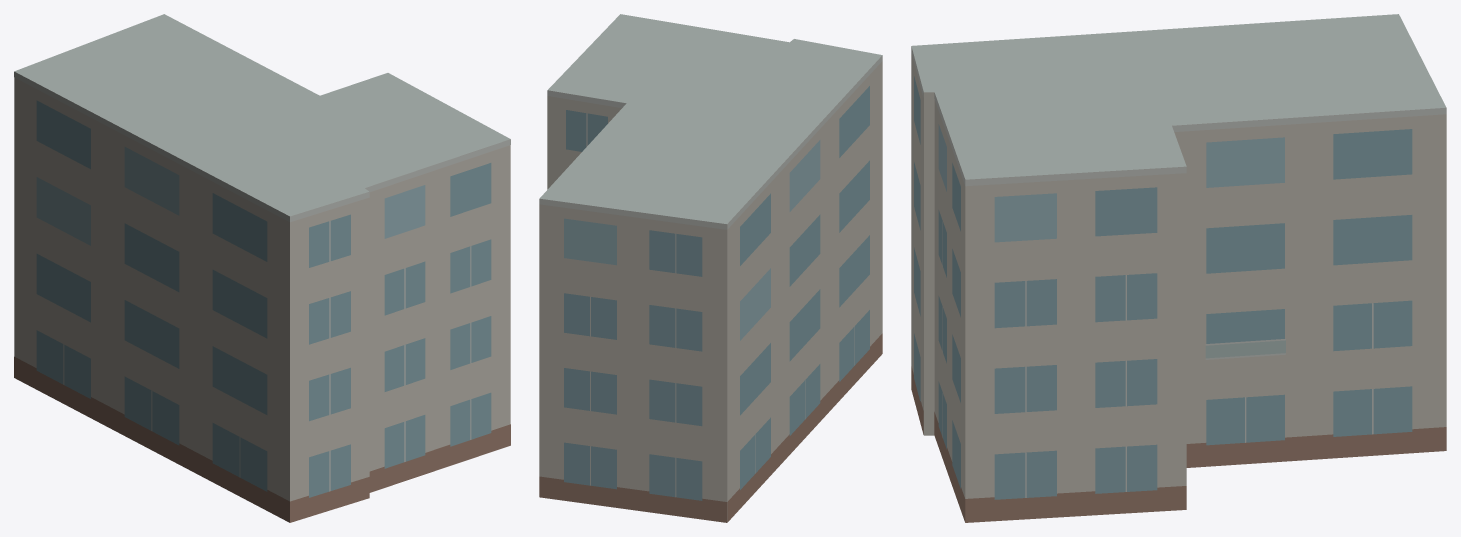
File: survey-upis-32639603.glb
The picture shows the model from 3 angles, left to right: view 1: azimuth 30°, elevation 25°; view 2: azimuth 150°, elevation 25°; view 3: azimuth 270°, elevation 25°; orthographic projection. The views are drawn at different scales.
Parts seen in each view (by area): view 1: survey-upis-32639603.tmp; view 2: survey-upis-32639603.tmp; view 3: survey-upis-32639603.tmp.
Boxes of the visible parts, <box> form: survey-upis-32639603.tmp: <box>14,14,510,522</box>; survey-upis-32639603.tmp: <box>539,14,882,522</box>; survey-upis-32639603.tmp: <box>911,14,1446,522</box>.
Bounding box in the file's own units: 13.26 × 12.8 × 18.1.
